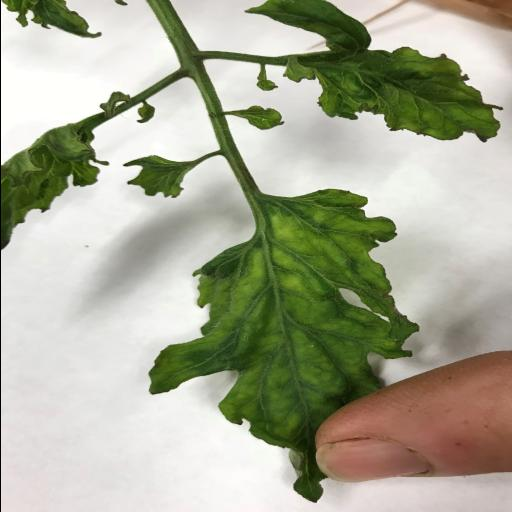Mosaic Virus: (146, 187, 422, 505), (288, 46, 503, 144)
